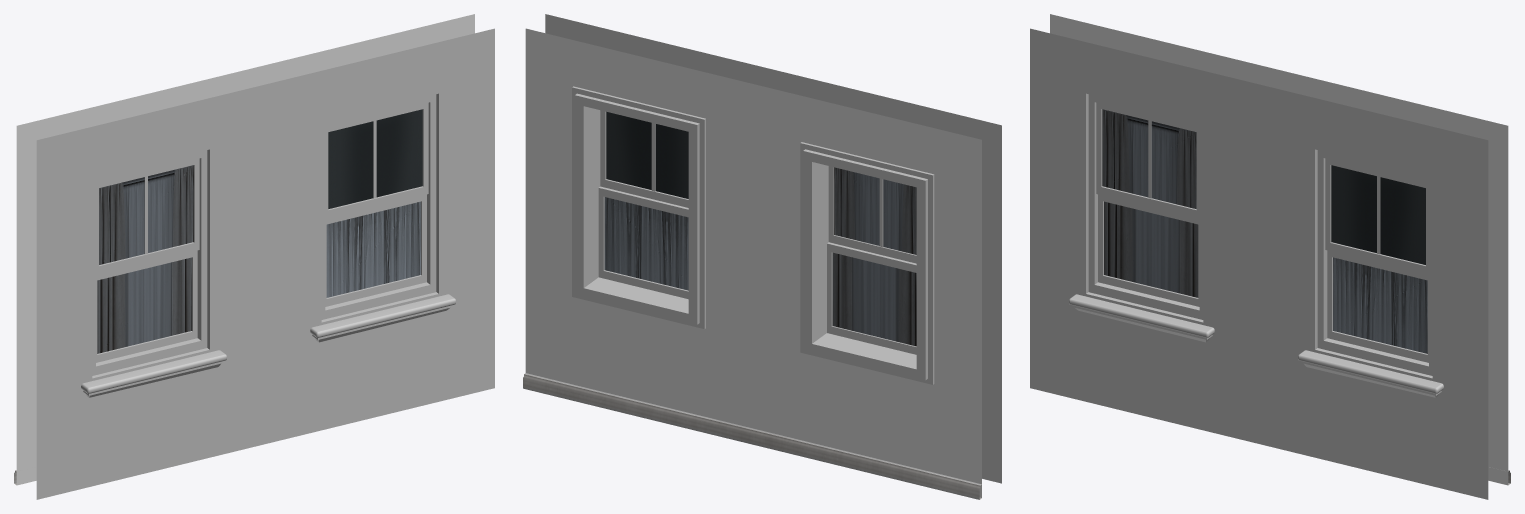
The model's file is House_01_Windows_01.fbx.
The picture shows the model from 3 angles, left to right: view 1: azimuth 30°, elevation 25°; view 2: azimuth 150°, elevation 25°; view 3: azimuth 330°, elevation 25°; orthographic projection.
Parts seen in each view (by area): view 1: House_01_Windows_01_LOD0; view 2: House_01_Windows_01_LOD0; view 3: House_01_Windows_01_LOD0.
Part boxes in pixels (x1,y1,x2,y2): House_01_Windows_01_LOD0: (14,14,494,499); House_01_Windows_01_LOD0: (523,14,1001,499); House_01_Windows_01_LOD0: (1030,14,1510,499).
Size of what is drawn, in the model's own units: 400 by 300 by 45.7.
